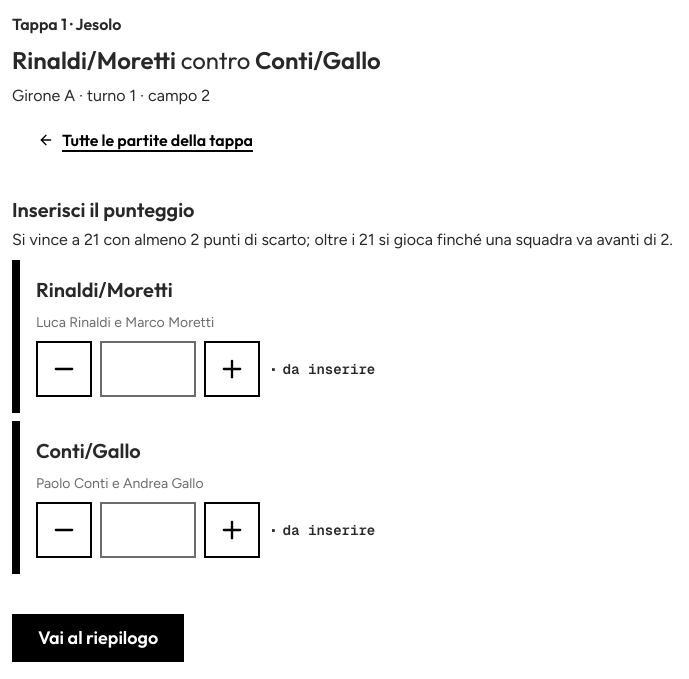
it: InserimentoPunteggio (w-admin-punteggio) › due righe con le coppie, campi numerici e pulsanti etichettati
What coordinates should you click on to do the following:
click the button named "Aggiungi un punto a Rinaldi/Moretti"
I would click on:
 (232, 369)
Its box is [204,341,260,397].
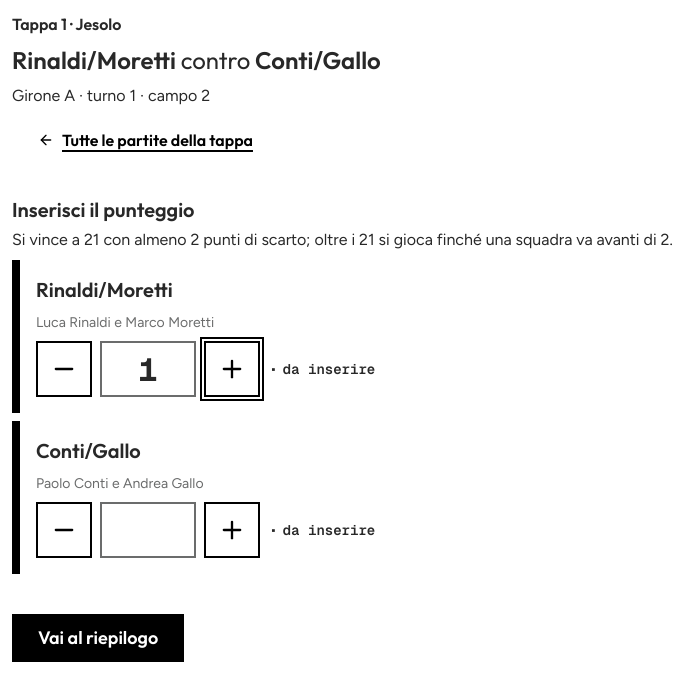
What coordinates should you click on to do the following:
click the button named "Aggiungi un punto a Rinaldi/Moretti"
I would click on:
 (232, 369)
Its box is [204,341,260,397].
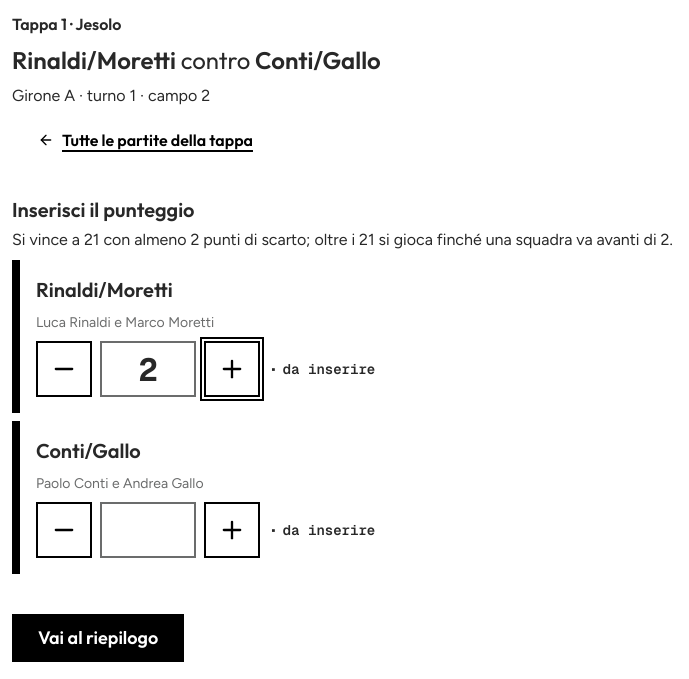
What coordinates should you click on to do the following:
click the button named "Togli un punto a Rinaldi/Moretti"
I would click on:
 (64, 369)
Its box is [36,341,92,397].
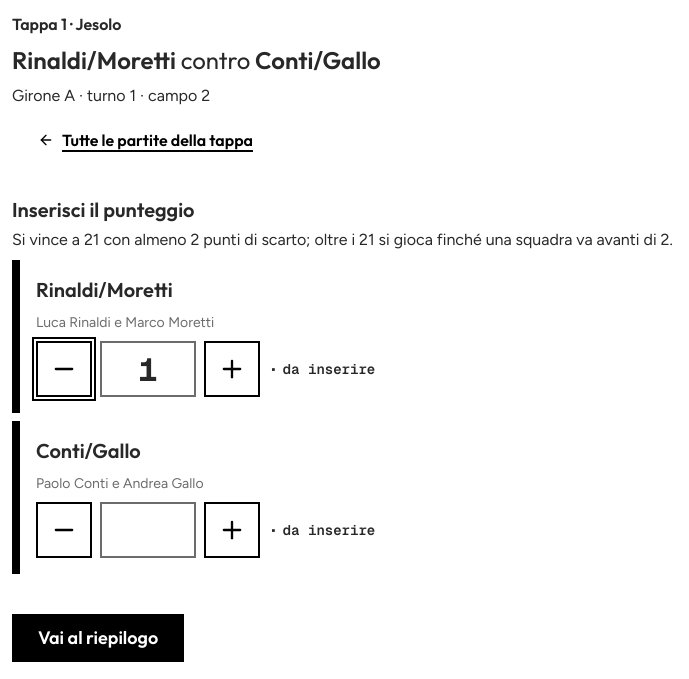
Expected: the button named "Aggiungi un punto a Conti/Gallo" is shown, [204,502,260,558]
Expected: the field labelled "Rinaldi/Moretti" holds "1", [100,341,196,397]
